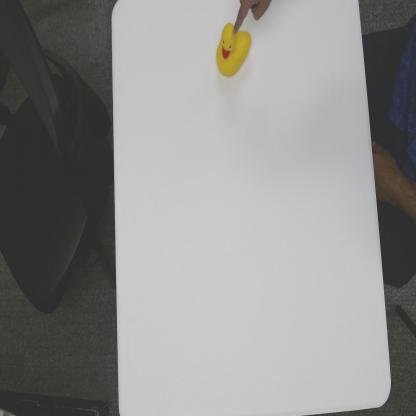Duck: (216, 22, 253, 76)
Hand: (233, 0, 272, 36)
